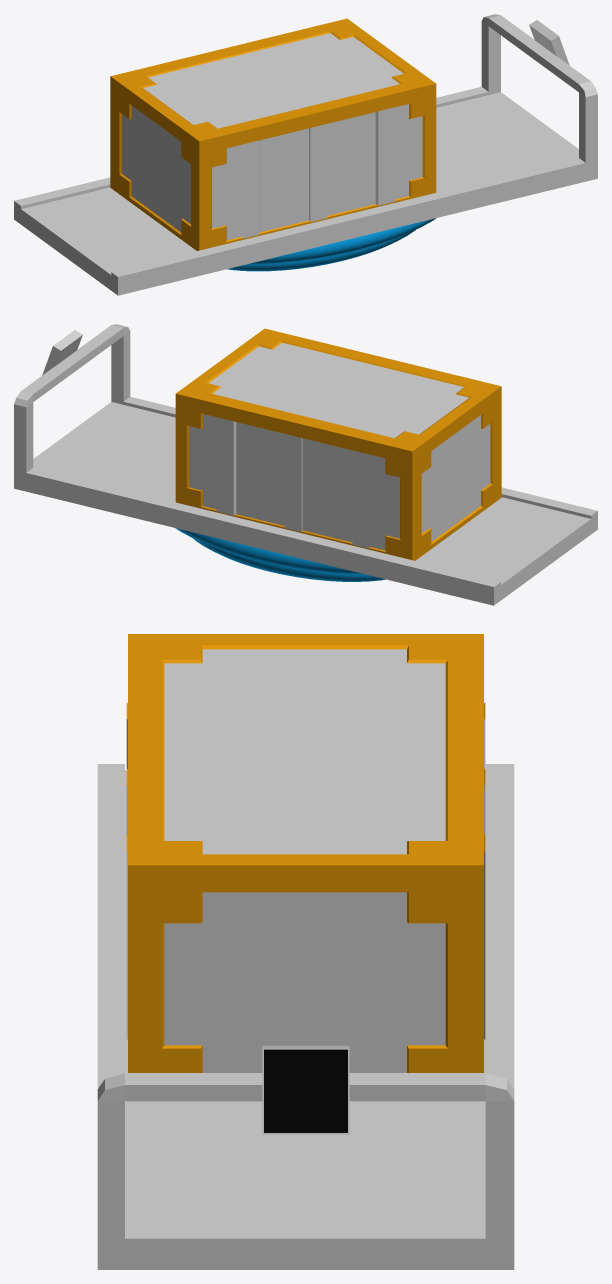
The model's file is trolly2.fbx.
3 renders of one model, top to bottom at view 1: azimuth 30°, elevation 25°; view 2: azimuth 150°, elevation 25°; view 3: azimuth 270°, elevation 25°, orthographic. The views are drawn at different scales.
Parts seen in each view (by area): view 1: Crate, Trolly, Torus, Torus.001, Console; view 2: Crate, Trolly, Torus, Torus.001, Console; view 3: Crate, Trolly, Console.
Part boxes in pixels (left/top/right/bottom): Crate: left=110, top=18, right=436, bottom=250; Trolly: left=14, top=14, right=597, bottom=295; Torus: left=248, top=218, right=436, bottom=264; Torus.001: left=227, top=230, right=415, bottom=271; Console: left=529, top=20, right=569, bottom=64; Crate: left=175, top=328, right=501, bottom=560; Trolly: left=14, top=324, right=597, bottom=605; Torus: left=175, top=528, right=363, bottom=574; Torus.001: left=193, top=538, right=385, bottom=581; Console: left=42, top=330, right=82, bottom=374; Crate: left=126, top=634, right=485, bottom=1072; Trolly: left=97, top=764, right=514, bottom=1269; Console: left=262, top=1045, right=349, bottom=1134.
Size of the model in its own units: 653 by 206 by 238.
